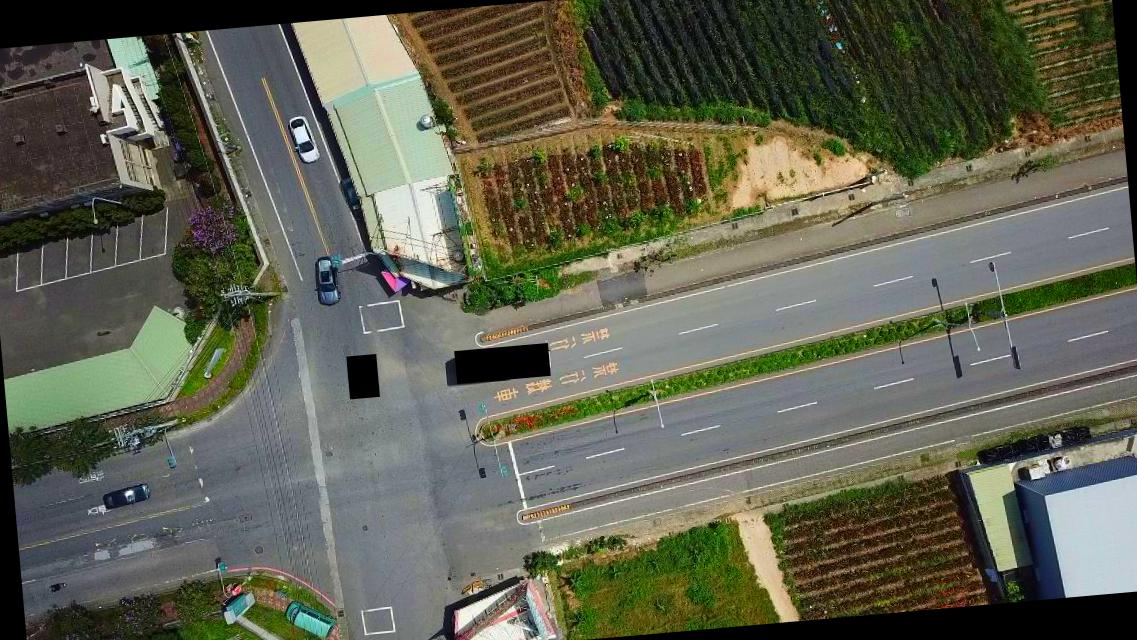vehicle: (283, 598, 335, 639), (286, 113, 322, 166), (312, 253, 343, 307), (100, 484, 152, 510)
